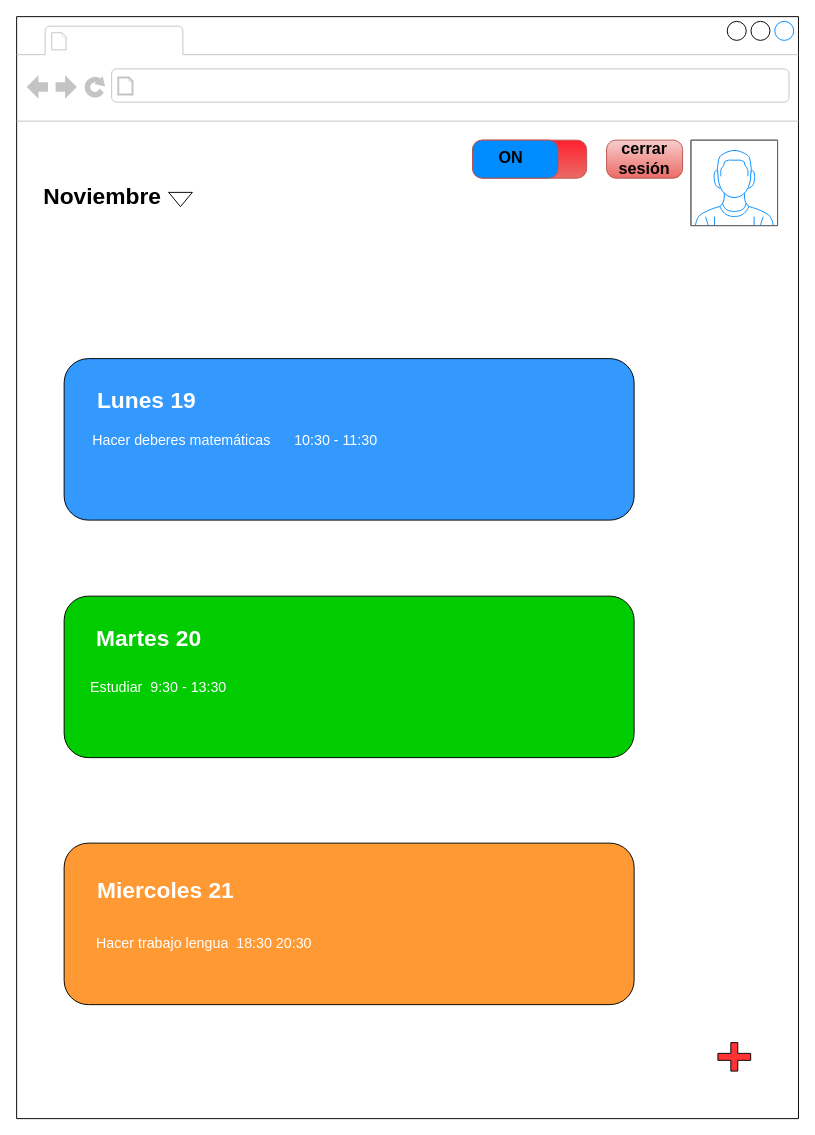
This 815x1135 diagram has some shape labels left out. The centre of each missing label's shape, as x and y in pixels:
https://www.actividad/inicio: the point at 258,85
Page 1: the point at 125,40
